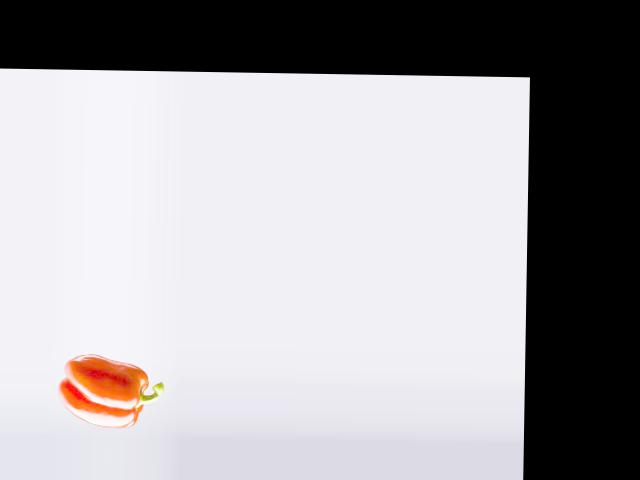bell_pepper: (60, 352, 165, 432)
